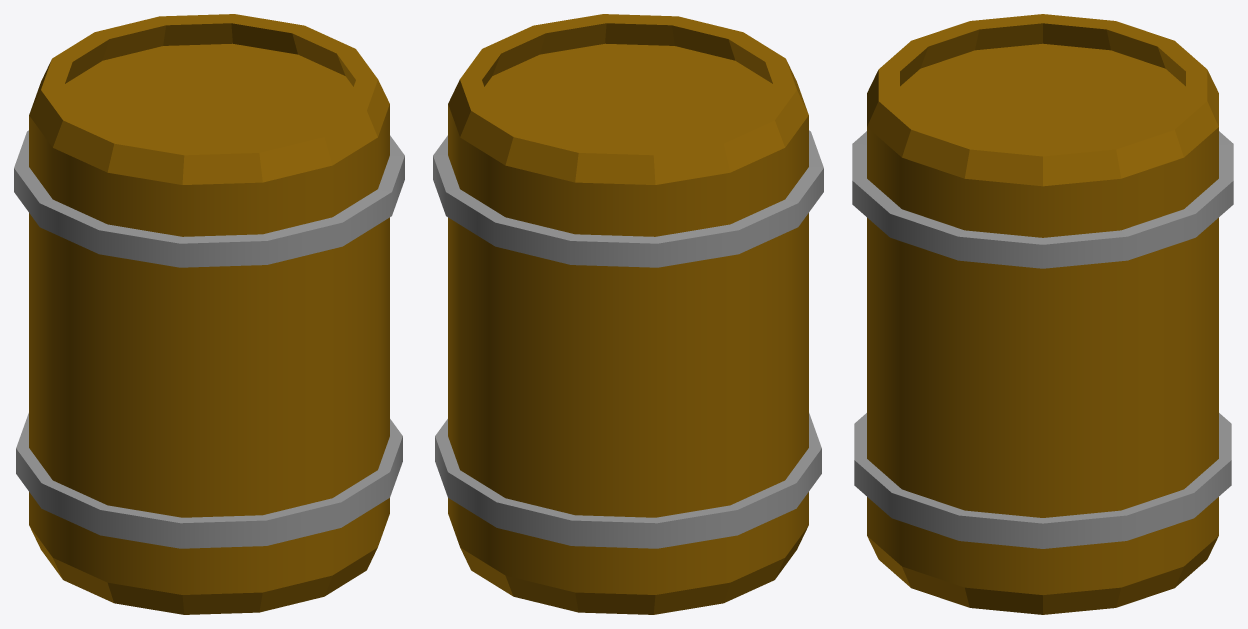
Rendered from barrel.fbx.
3 views of the same model, side by side, from view 1: azimuth 30°, elevation 25°; view 2: azimuth 150°, elevation 25°; view 3: azimuth 270°, elevation 25° (orthographic).
Parts seen in each view (by area): view 1: pCylinder1; view 2: pCylinder1; view 3: pCylinder1.
Boxes of the visible parts, x1,y1,x2,y2 form: pCylinder1: [14, 14, 404, 614]; pCylinder1: [433, 14, 823, 614]; pCylinder1: [852, 14, 1233, 614].
Size of the model in its own units: 13.91 by 18 by 13.56.
